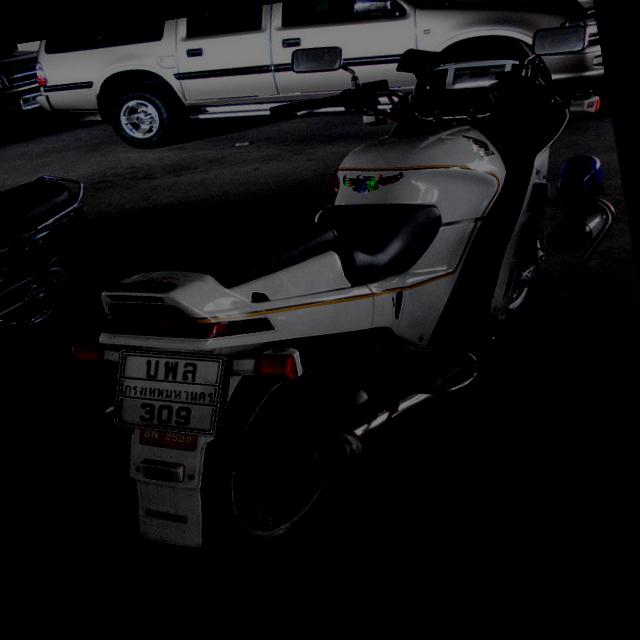Vehicle: (17, 0, 640, 590), (0, 0, 606, 181), (0, 166, 117, 337), (0, 38, 67, 142)
